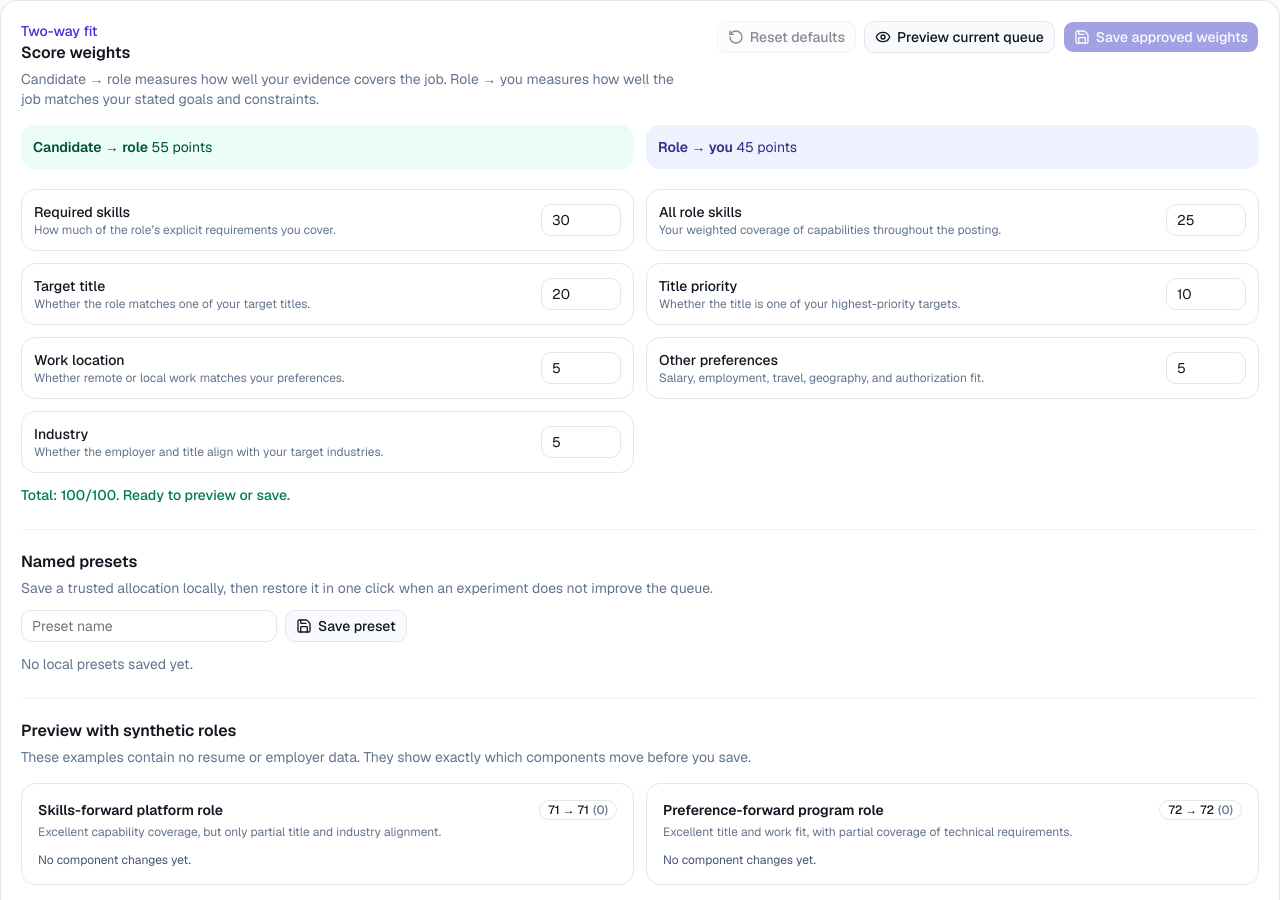
Test case: score weight comparison › previews the local queue without saving tentative weights
The width and height of the screenshot is (1280, 900).
Click the button "Preview current queue".
click(959, 37)  # box x1=864 y1=21 x2=1055 y2=53
(page scrolled)
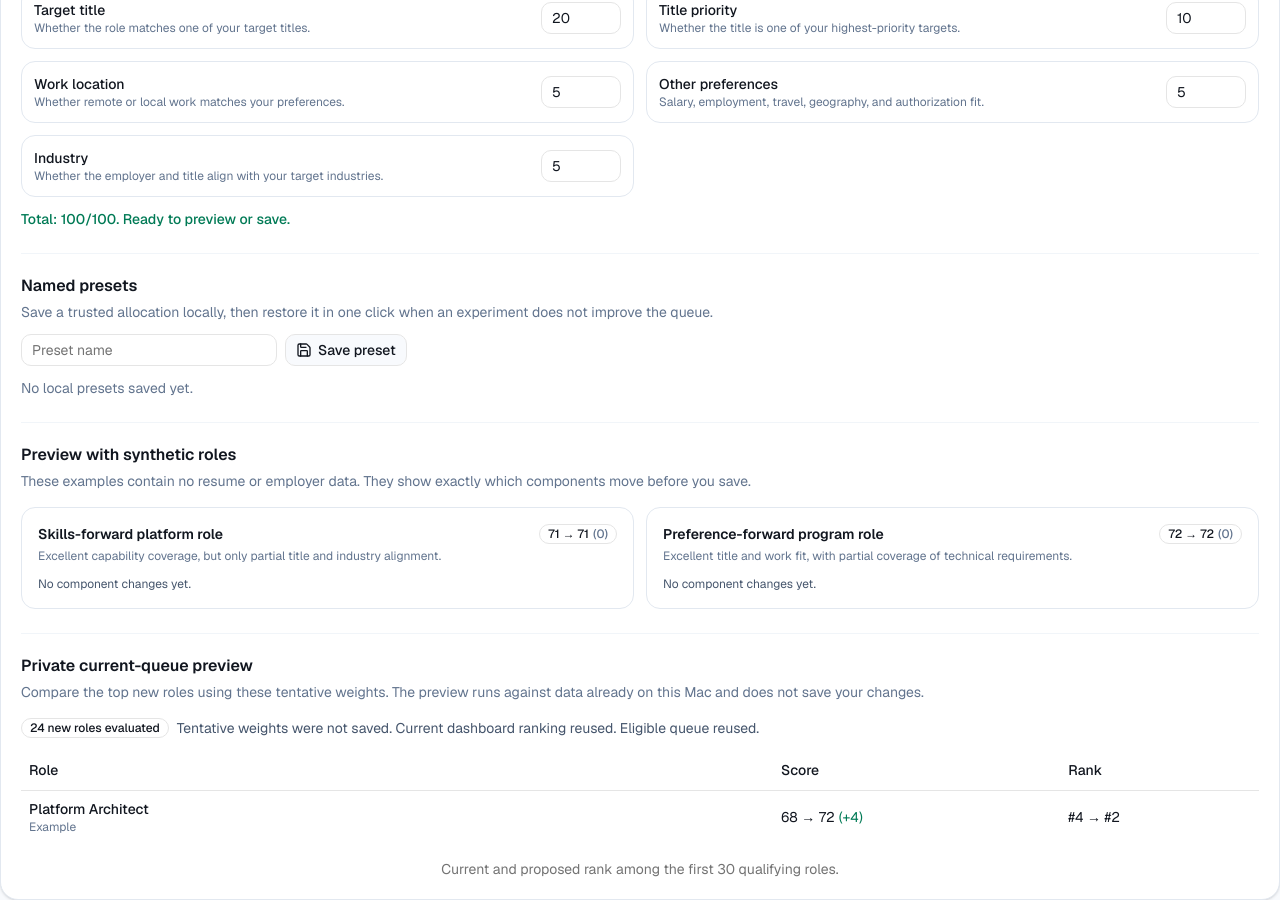
Check: the text "Platform Architect" is shown, box x1=29 y1=800 x2=149 y2=818
Check: the text "68 → 72" is shown, box x1=773 y1=790 x2=1060 y2=842
Check: the text "#4 → #2" is shown, box x1=1060 y1=790 x2=1259 y2=842
